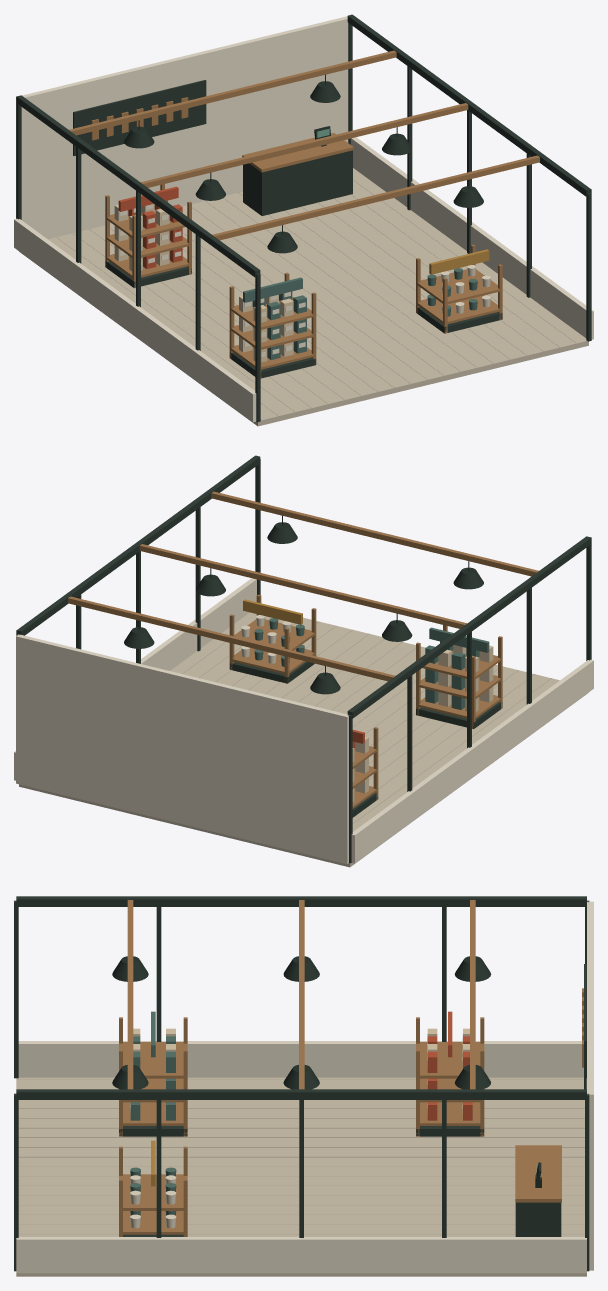
The model's file is current.glb.
3 renders of one model, top to bottom at view 1: azimuth 30°, elevation 25°; view 2: azimuth 150°, elevation 25°; view 3: azimuth 270°, elevation 25°, orthographic. The views are drawn at different scales.
Visible parts, largest first — view 1: Floor_8x10m, Rear_wall, Side_plinth (×2), Ceiling_beam (×3), Shelf (×8), Window_frame (×9), Roof_beam (×2), Fixed_checkout, Brand_panel, DAILY_Retail_Concept, Display_base (×3), Category_header (×3) (+2 smaller); view 2: Rear_wall, Floor_8x10m, Side_plinth (×2), Ceiling_beam (×3), Roof_beam (×2), Window_frame (×7), Shelf (×5), DAILY_Retail_Concept, Display_base (×2), Category_header (×2), brew; view 3: Floor_8x10m, Side_plinth (×2), Roof_beam (×2), Shelf (×8), Window_frame (×8), Ceiling_beam (×3), DAILY_Retail_Concept, Floor_joint (×4), Countertop, Rear_wall, Fixed_checkout, Display_base (×2) (+1 smaller).
Part boxes in pixels (left/top/right/bottom): Floor_8x10m: left=19, top=168, right=588, bottom=426; Rear_wall: left=16, top=16, right=348, bottom=239; Side_plinth (×2): left=14, top=137, right=593, bottom=422; Ceiling_beam (×3): left=69, top=50, right=539, bottom=240; Shelf (×8): left=105, top=209, right=502, bottom=369; Window_frame (×9): left=16, top=66, right=591, bottom=422; Roof_beam (×2): left=16, top=14, right=591, bottom=277; Fixed_checkout: left=243, top=150, right=352, bottom=215; Brand_panel: left=73, top=80, right=206, bottom=155; DAILY_Retail_Concept: left=124, top=81, right=483, bottom=253; Display_base (×3): left=105, top=261, right=502, bottom=378; Category_header (×3): left=118, top=186, right=489, bottom=302; Rear_wall: left=16, top=634, right=348, bottom=864; Floor_8x10m: left=19, top=612, right=588, bottom=867; Side_plinth (×2): left=14, top=578, right=593, bottom=863; Ceiling_beam (×3): left=68, top=491, right=538, bottom=681; Roof_beam (×2): left=16, top=455, right=591, bottom=718; Window_frame (×7): left=195, top=459, right=591, bottom=863; Shelf (×5): left=229, top=619, right=502, bottom=719; DAILY_Retail_Concept: left=124, top=522, right=483, bottom=694; Display_base (×2): left=229, top=661, right=502, bottom=728; Category_header (×2): left=243, top=599, right=489, bottom=652; brew: left=241, top=615, right=304, bottom=666; Floor_8x10m: left=16, top=1077, right=586, bottom=1276; Side_plinth (×2): left=16, top=1041, right=586, bottom=1273; Roof_beam (×2): left=16, top=896, right=586, bottom=1099; Shelf (×8): left=119, top=1042, right=484, bottom=1234; Window_frame (×8): left=14, top=900, right=589, bottom=1271; Ceiling_beam (×3): left=127, top=900, right=475, bottom=1089; DAILY_Retail_Concept: left=112, top=956, right=491, bottom=1089; Floor_joint (×4): left=18, top=1127, right=584, bottom=1157; Countertop: left=515, top=1145, right=561, bottom=1202; Rear_wall: left=587, top=901, right=593, bottom=1270; Fixed_checkout: left=515, top=1202, right=561, bottom=1236; Display_base (×2): left=119, top=1126, right=484, bottom=1136.
Bounding box in the file's own units: 8.24 × 3.6 × 10.16.
